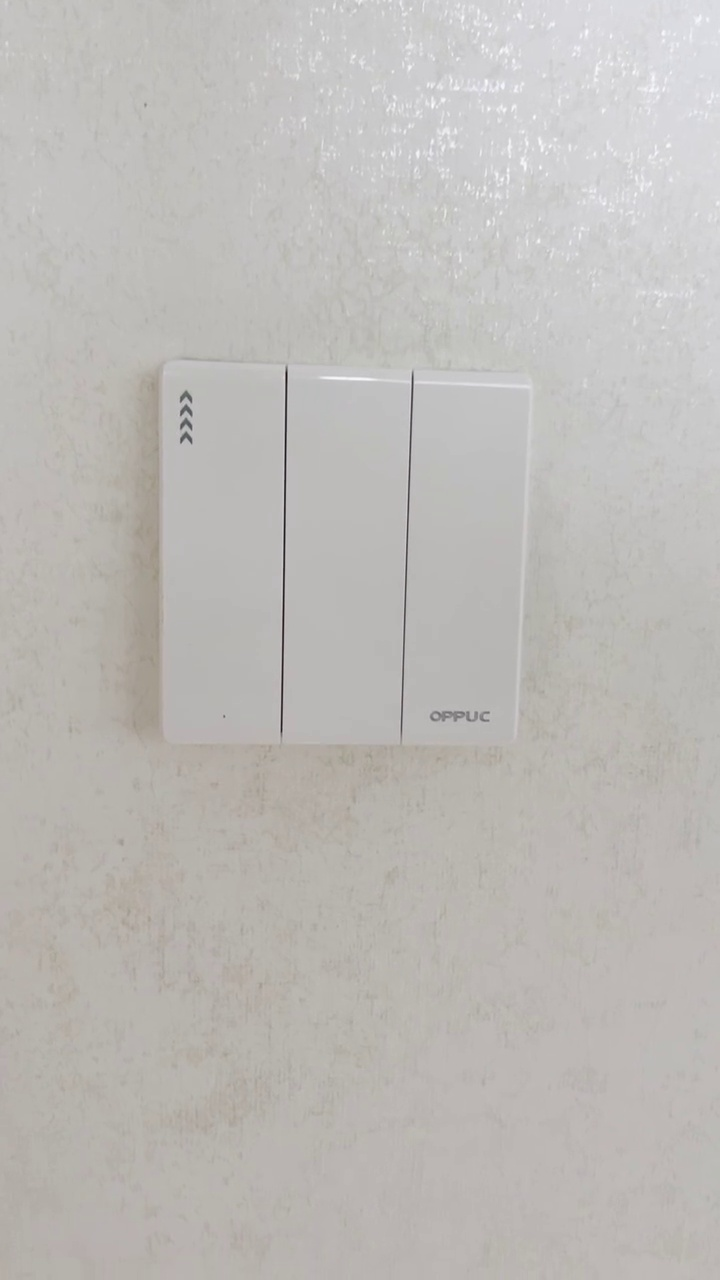button1: (288, 371, 403, 746), (168, 374, 281, 741), (409, 375, 520, 739)
